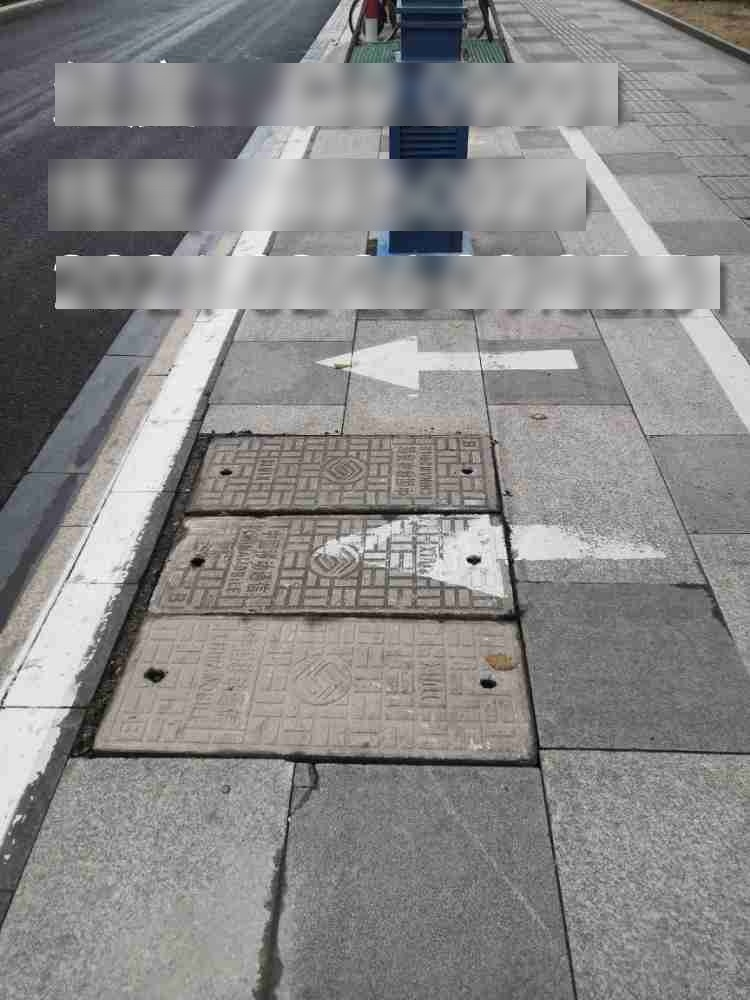good: (78, 423, 545, 772)
